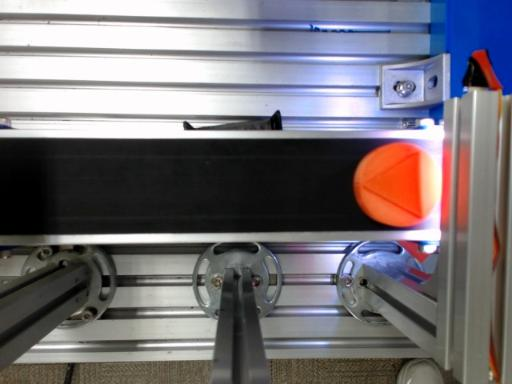Orange_Waper: (354, 143, 440, 226)
